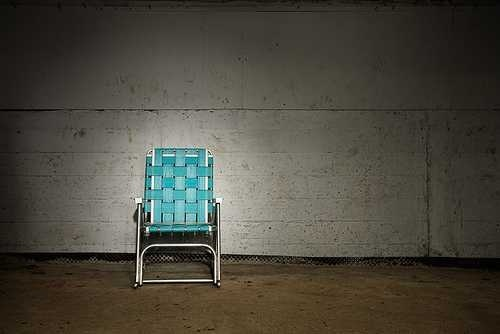obstacle: (134, 148, 221, 286)
